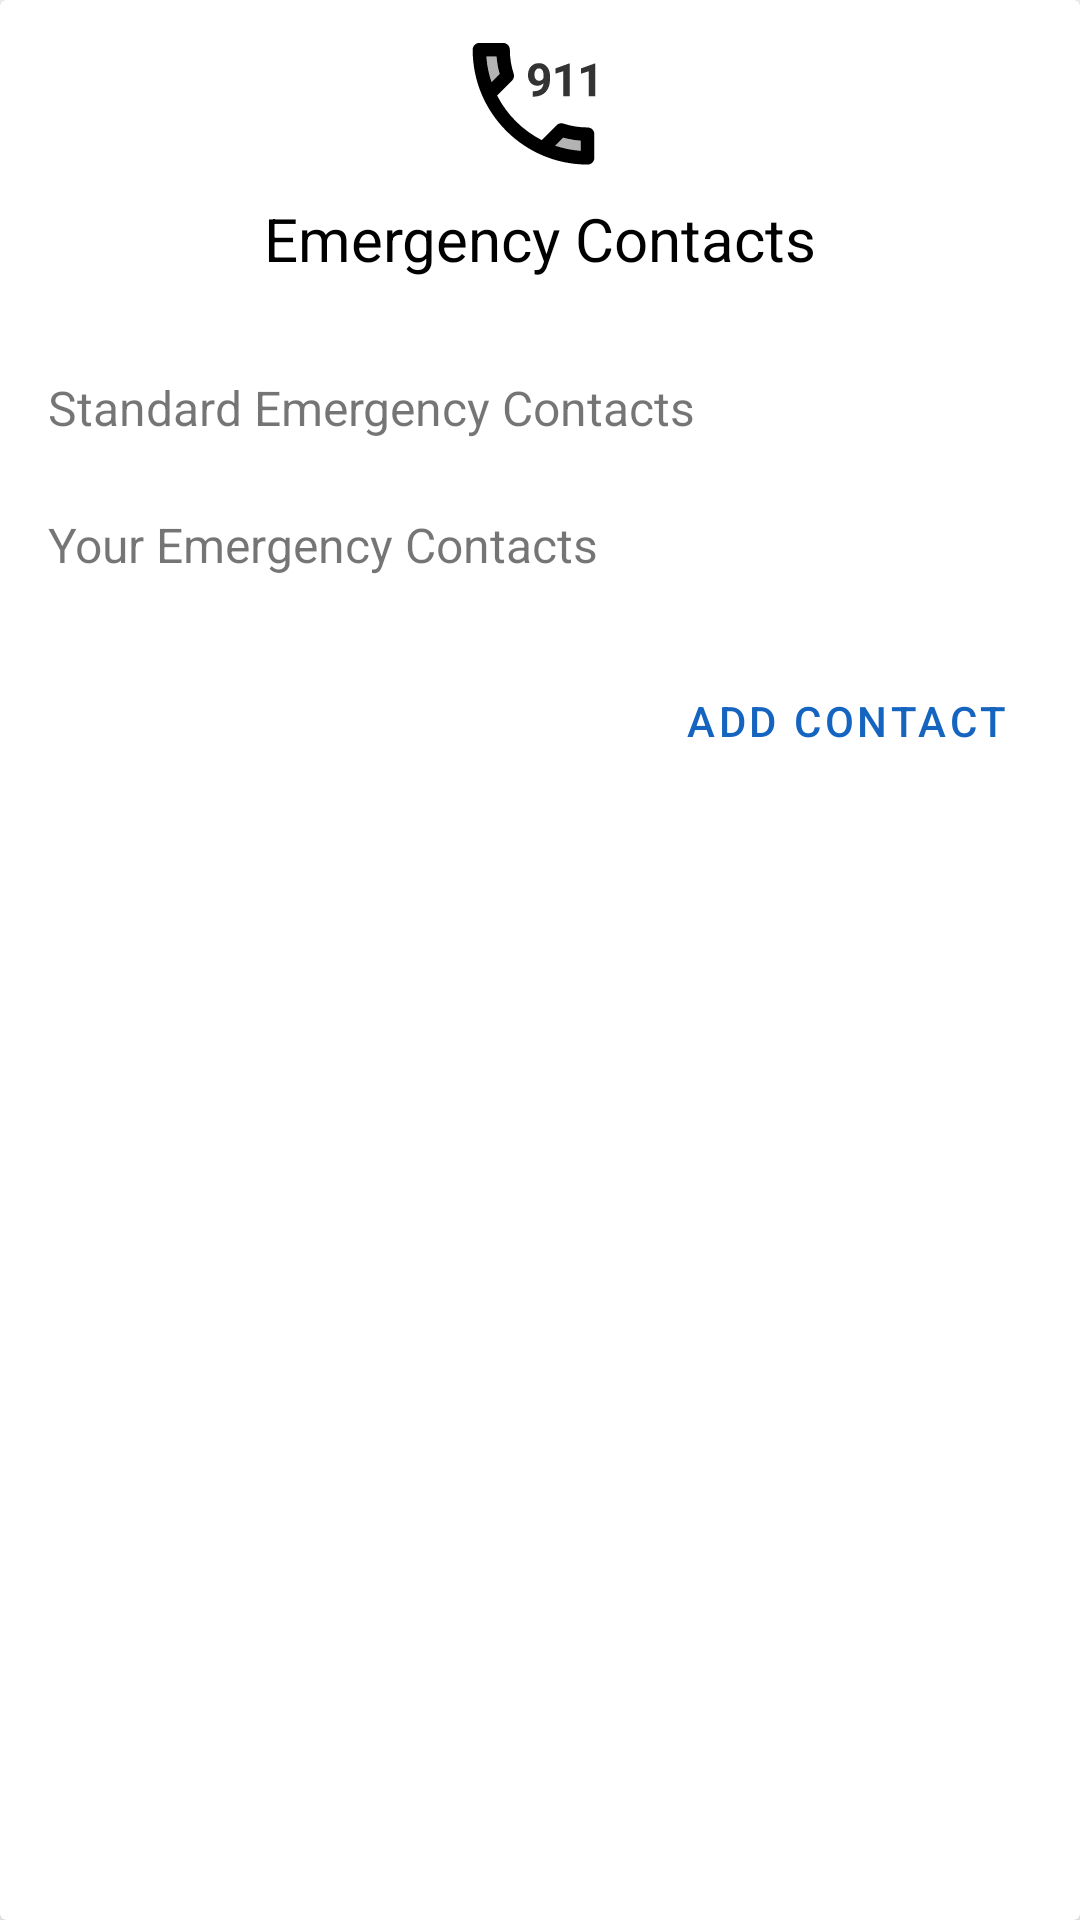

Screen size 1080x1920. Icon name, then its box in pixels as (x1, y1, x2, y2):
call: (472, 43, 596, 165)
